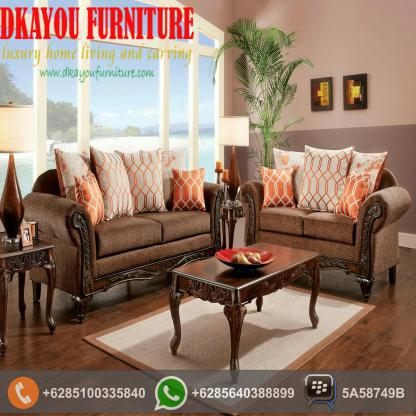meja: (2, 98, 33, 239), (216, 116, 248, 194)
sova: (28, 152, 226, 311), (246, 151, 400, 295)
tanaman: (163, 237, 328, 350), (227, 21, 305, 117)
